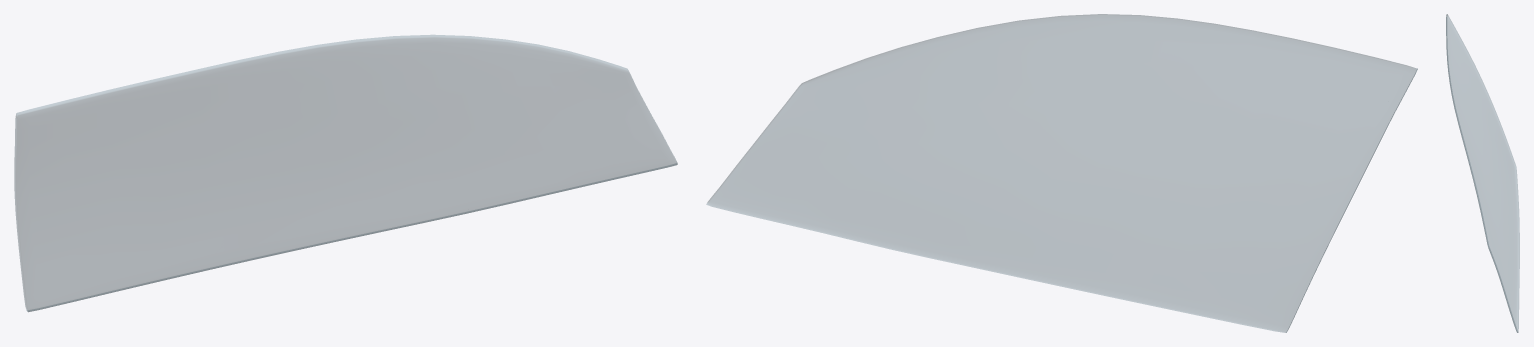
3 views of the same model, side by side, from view 1: azimuth 30°, elevation 25°; view 2: azimuth 150°, elevation 25°; view 3: azimuth 270°, elevation 25° (orthographic). The views are drawn at different scales.
Visible parts, largest first — view 1: SM_DodgeChargerCop_Door_FL_Glass_Ext2; view 2: SM_DodgeChargerCop_Door_FL_Glass_Ext2; view 3: SM_DodgeChargerCop_Door_FL_Glass_Ext2.
Part boxes in pixels (bbox=[...]): SM_DodgeChargerCop_Door_FL_Glass_Ext2: bbox=[14, 35, 677, 311]; SM_DodgeChargerCop_Door_FL_Glass_Ext2: bbox=[706, 14, 1417, 332]; SM_DodgeChargerCop_Door_FL_Glass_Ext2: bbox=[1446, 14, 1519, 332].
Size of the model in its own units: 0.938 by 0.346 by 0.164.
